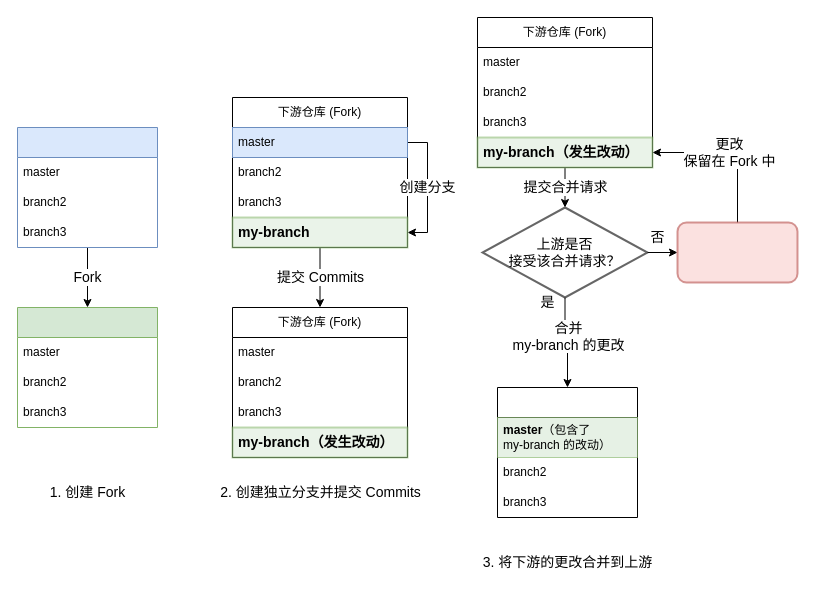
The diagram is 816 pixels wide and 595 high, and some of its shapes have lost their labels. Each missing label, with the box of its shape:
上游仓库: (496, 386, 638, 518)
上游仓库 someone/someproject: (16, 126, 158, 248)
下游仓库 (Fork) myuser/someproject: (16, 306, 158, 428)
拒绝合并: (676, 221, 798, 283)
